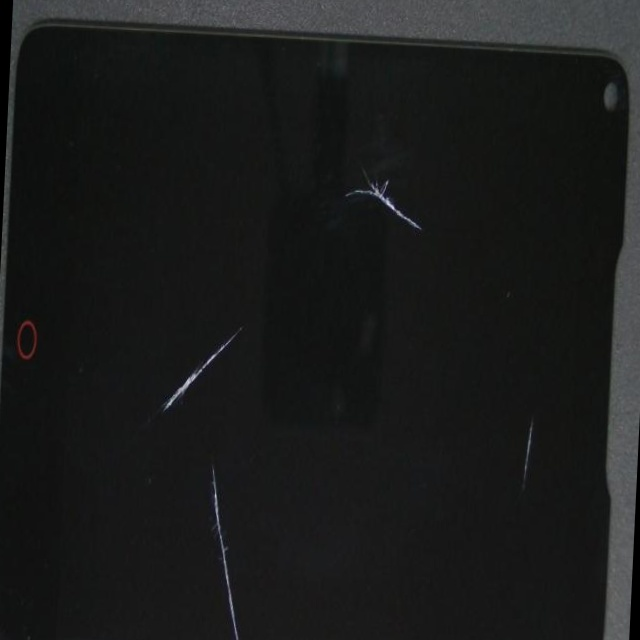scratch: (259, 121, 640, 640), (248, 119, 630, 330), (180, 82, 366, 510), (138, 428, 381, 640)
